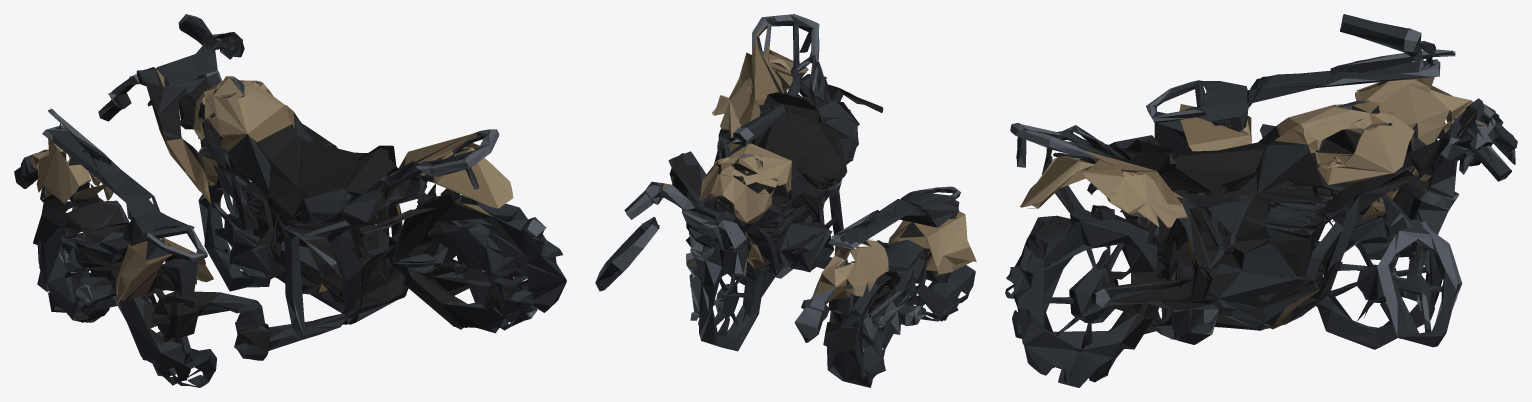
File: moto-recon-destruida.glb
3 views of the same model, side by side, from view 1: azimuth 30°, elevation 25°; view 2: azimuth 150°, elevation 25°; view 3: azimuth 270°, elevation 25° (orthographic). The views are drawn at different scales.
Visible parts, largest first — view 1: hull; view 2: hull; view 3: hull.
Boxes of the visible parts, left/top/right/bottom form: hull: left=14, top=14, right=566, bottom=387; hull: left=595, top=14, right=976, bottom=387; hull: left=1005, top=14, right=1517, bottom=387.
Size of the model in its own units: 0.9162 by 0.6597 by 0.9978.
